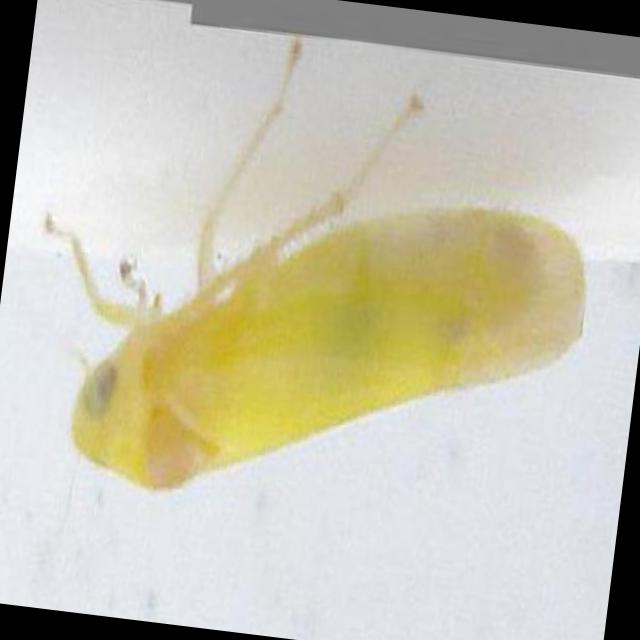green-leafhopper: (65, 135, 598, 534)
